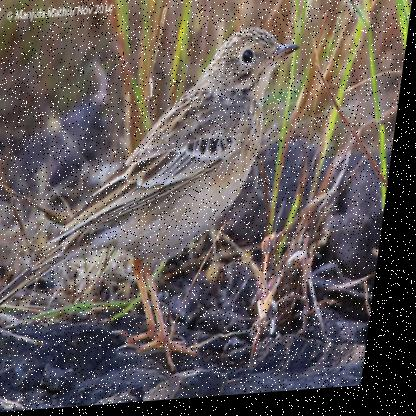Burung: (0, 28, 304, 382)
